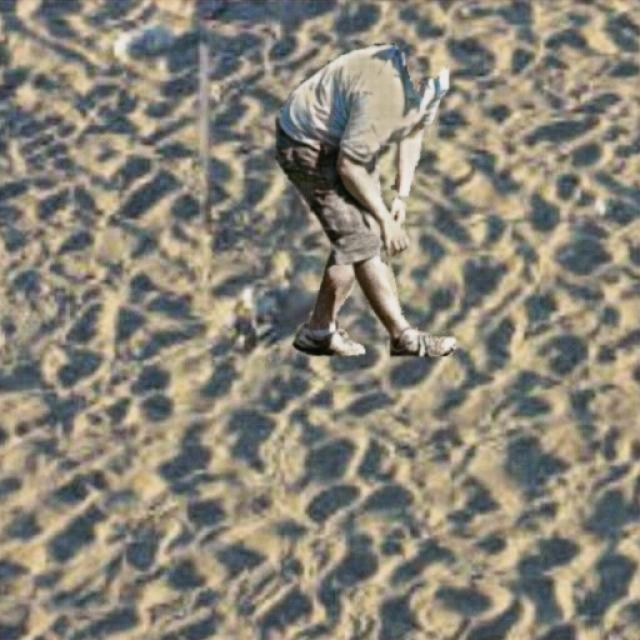Person in Rubble: (276, 44, 455, 355)
